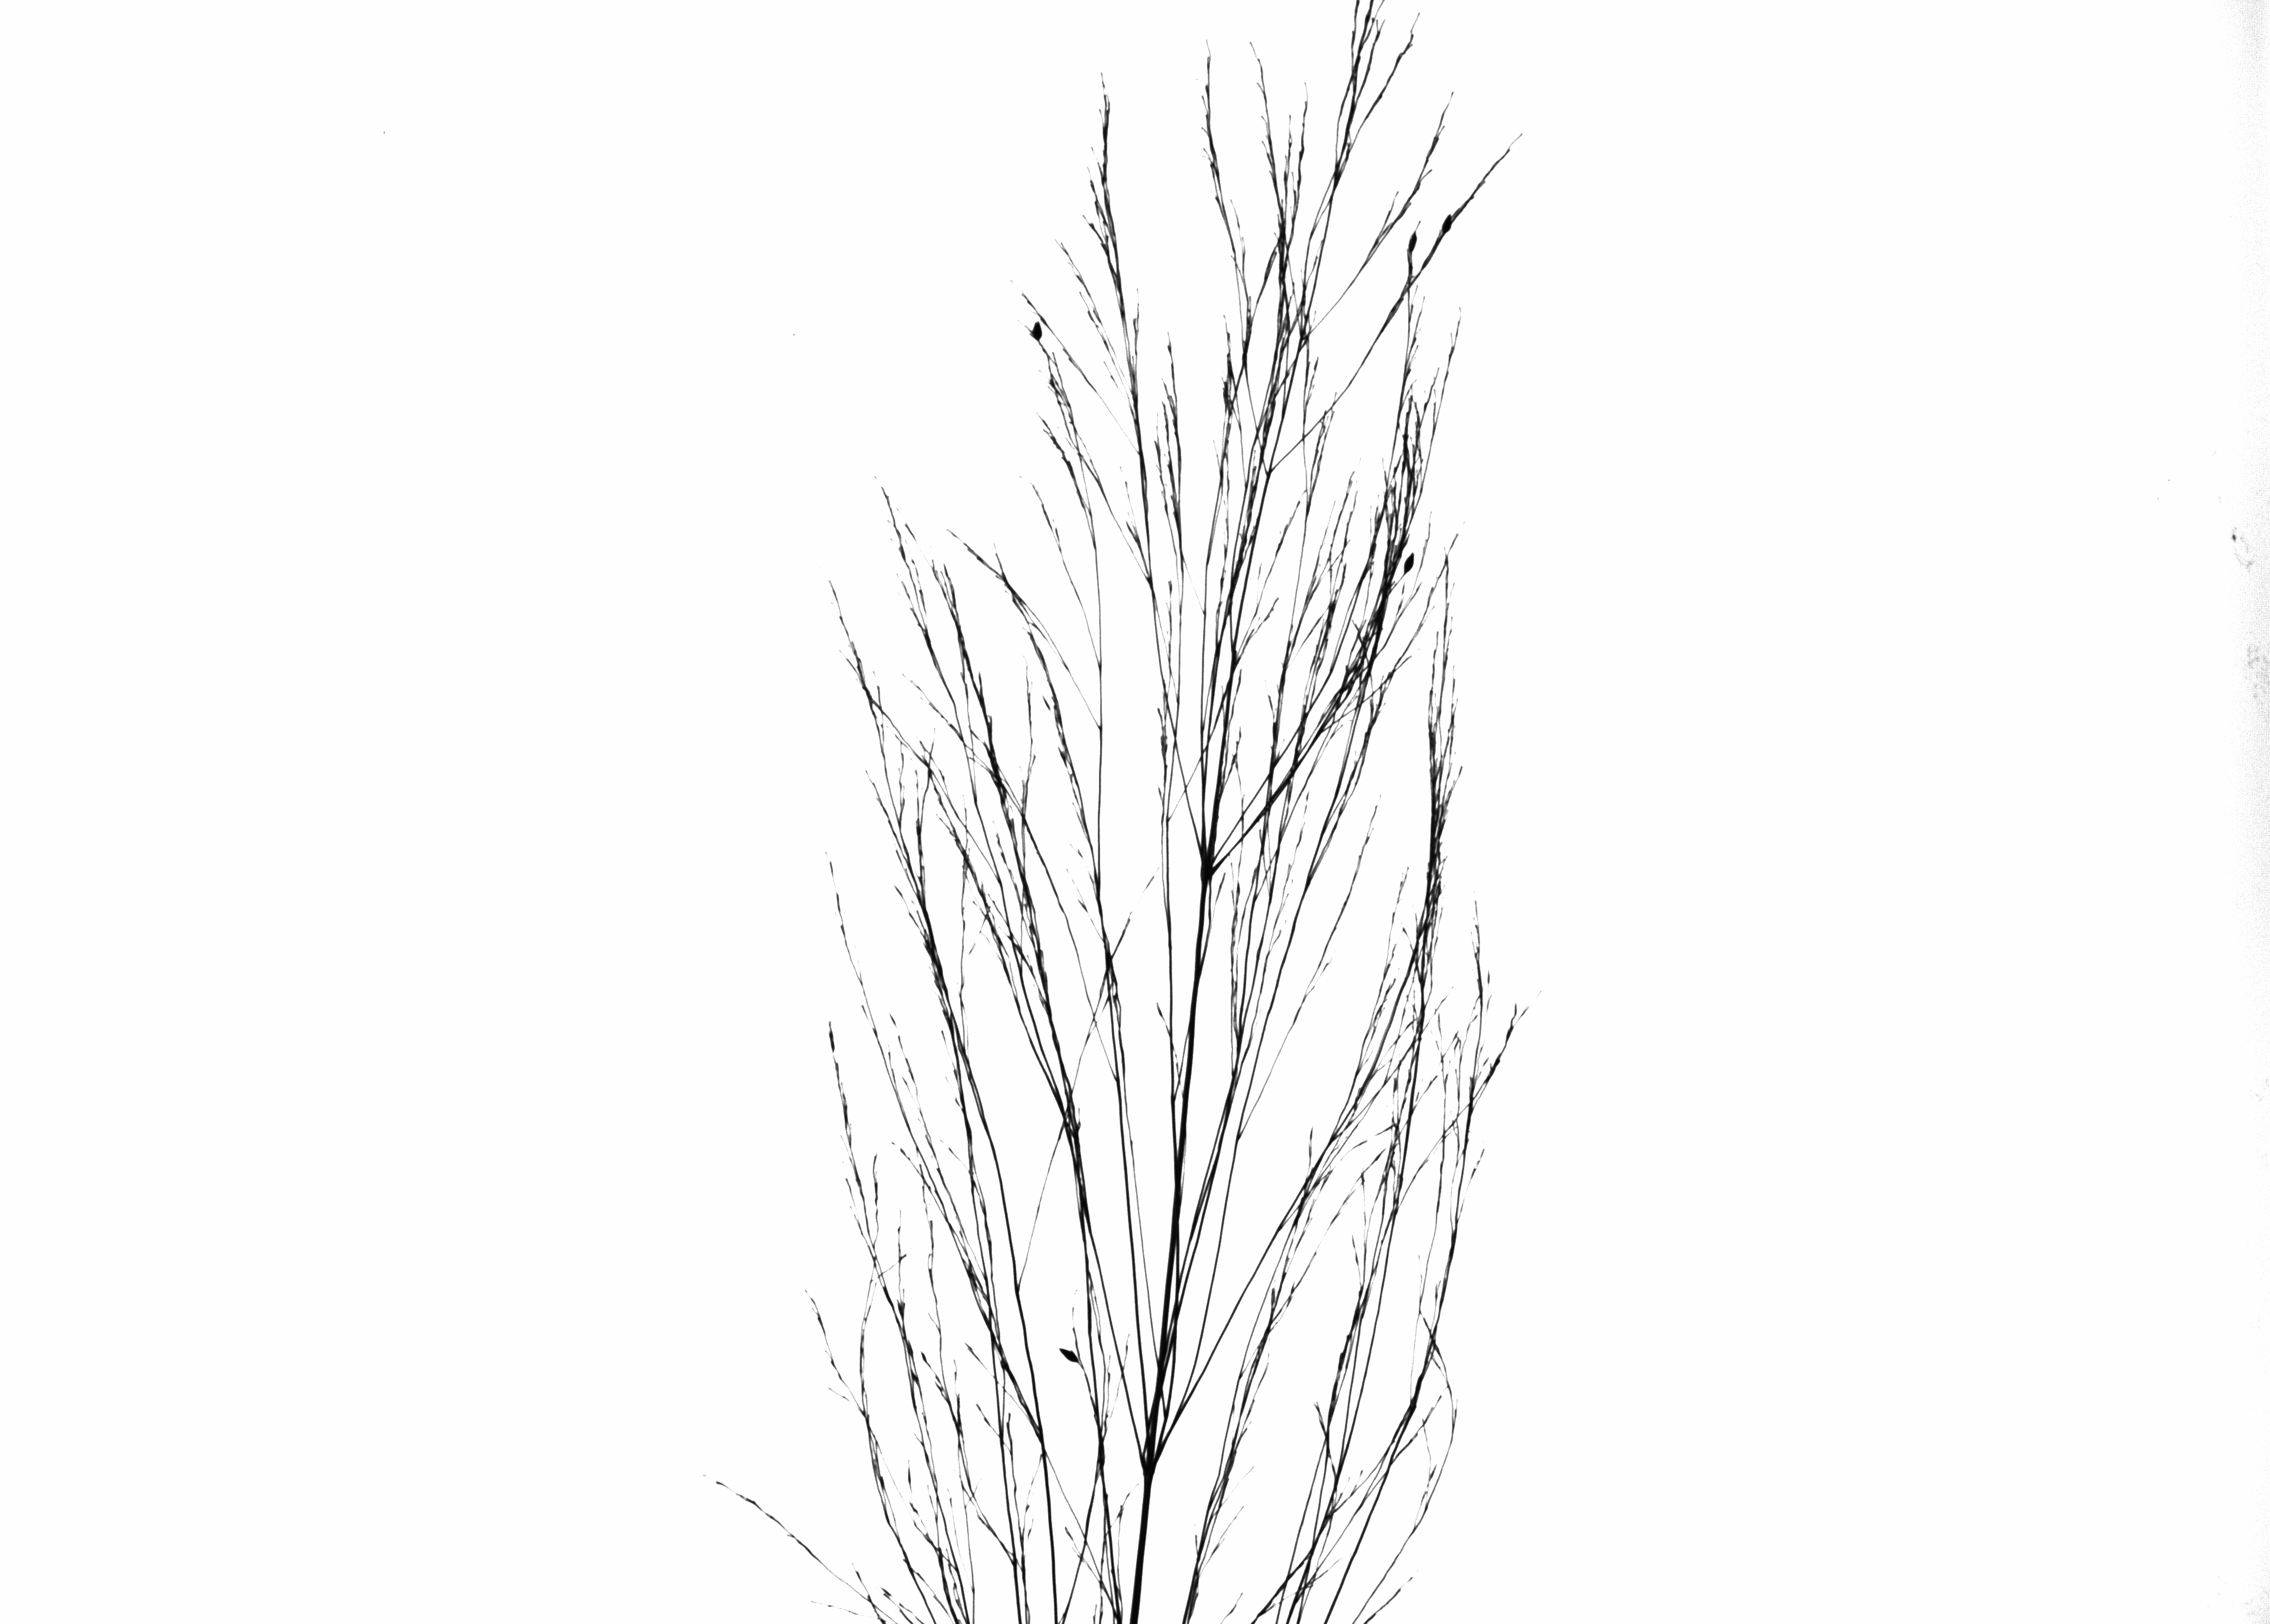seed: (1403, 225, 1422, 257), (1055, 1345, 1083, 1366), (1401, 547, 1417, 576), (1440, 207, 1456, 237), (1030, 320, 1046, 343)
